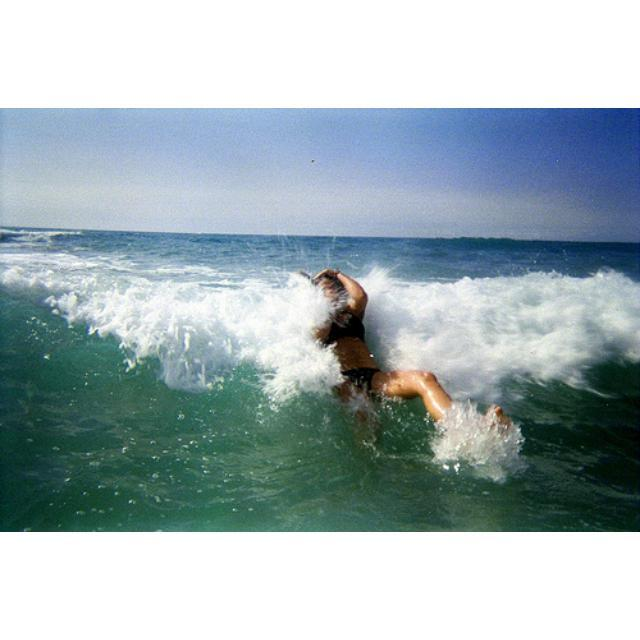human: (298, 262, 510, 462)
